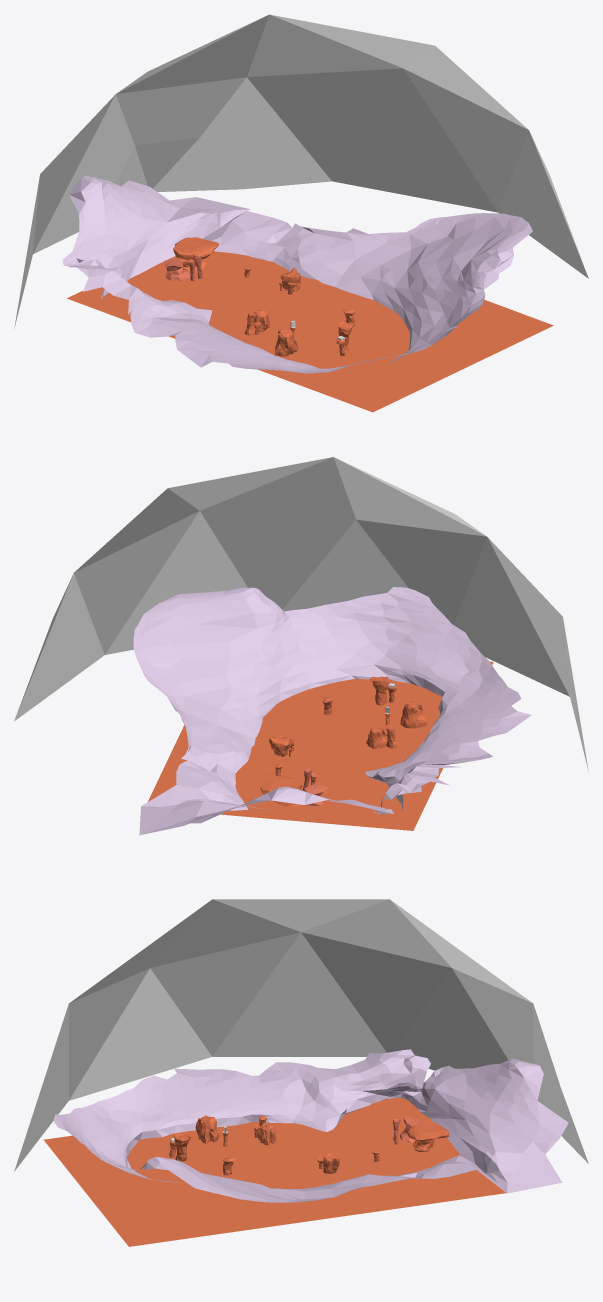
The model's file is canyon.glb.
3 views of the same model, one above another, from view 1: azimuth 30°, elevation 25°; view 2: azimuth 150°, elevation 25°; view 3: azimuth 270°, elevation 25° (orthographic). The views are drawn at different scales.
Parts seen in each view (by area): view 1: Icosphere, Cylinder.011, Plane.001, far_rock1; view 2: Icosphere, Cylinder.011, Plane.001, far_rock1, Cylinder; view 3: Icosphere, Cylinder.011, Plane.001, far_rock1, Cylinder.
Part boxes in pixels (x1,y1,x2,y2): Icosphere: (14, 14, 588, 328); Cylinder.011: (62, 176, 532, 373); Plane.001: (67, 251, 553, 412); far_rock1: (173, 237, 218, 271); Icosphere: (14, 457, 588, 770); Cylinder.011: (133, 587, 531, 835); Plane.001: (148, 661, 493, 830); far_rock1: (259, 773, 302, 806); Cylinder: (400, 701, 426, 728); Icosphere: (14, 899, 588, 1171); Cylinder.011: (54, 1049, 568, 1202); Plane.001: (43, 1097, 506, 1246); far_rock1: (407, 1120, 449, 1152); Cylinder: (195, 1115, 219, 1143).
Size of the model in its own units: 1902 by 1013 by 2003.
